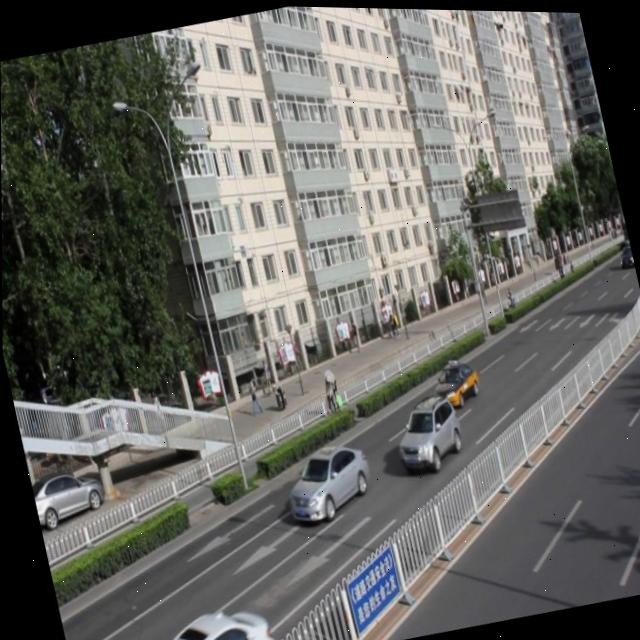car: (277, 436, 374, 524), (111, 597, 278, 640), (386, 388, 465, 470), (423, 350, 482, 409)
